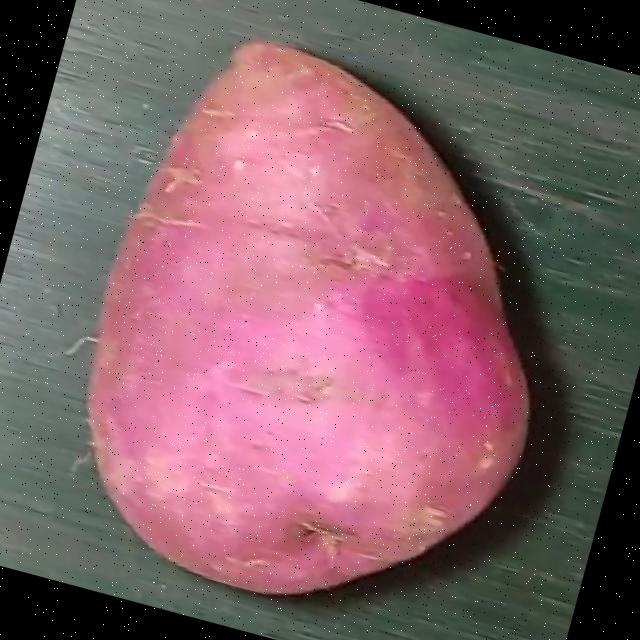Sweet Potato: (85, 36, 531, 594)
